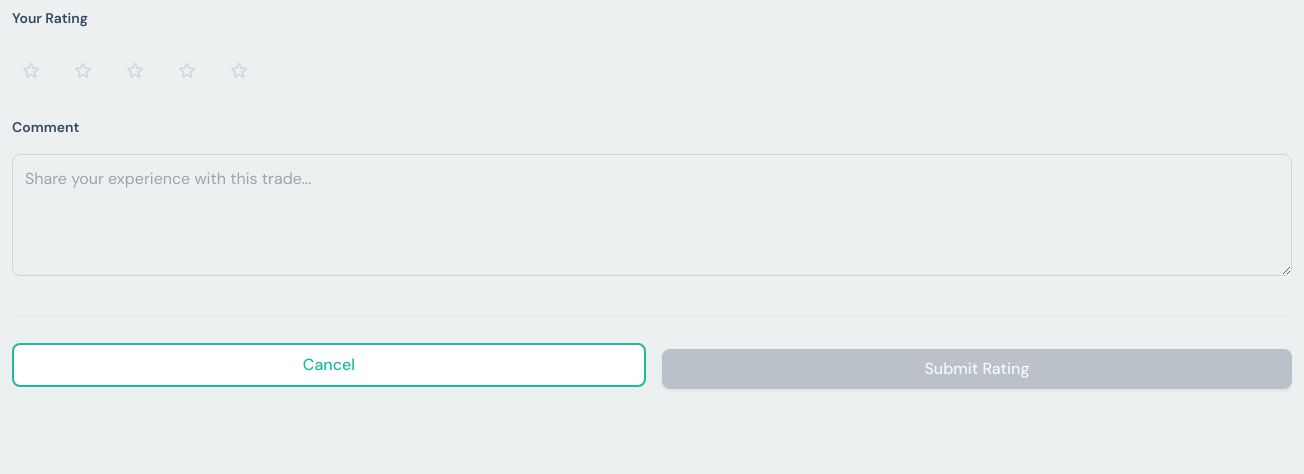
Test: RatingForm › Star Selection › displays correct rating text for each star level
Click the button named "rate 1 star" at (34, 71), box [12,49,56,93]
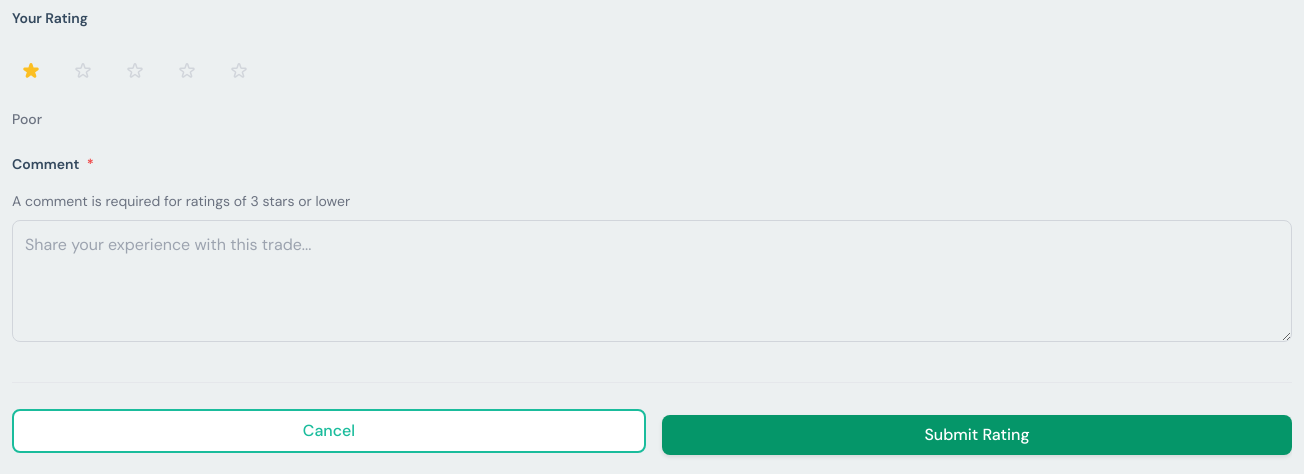
Expected: the text "Poor" is shown, [12,110,42,128]
Click the button named "rate 2 star" at (86, 71), box [64,49,108,93]
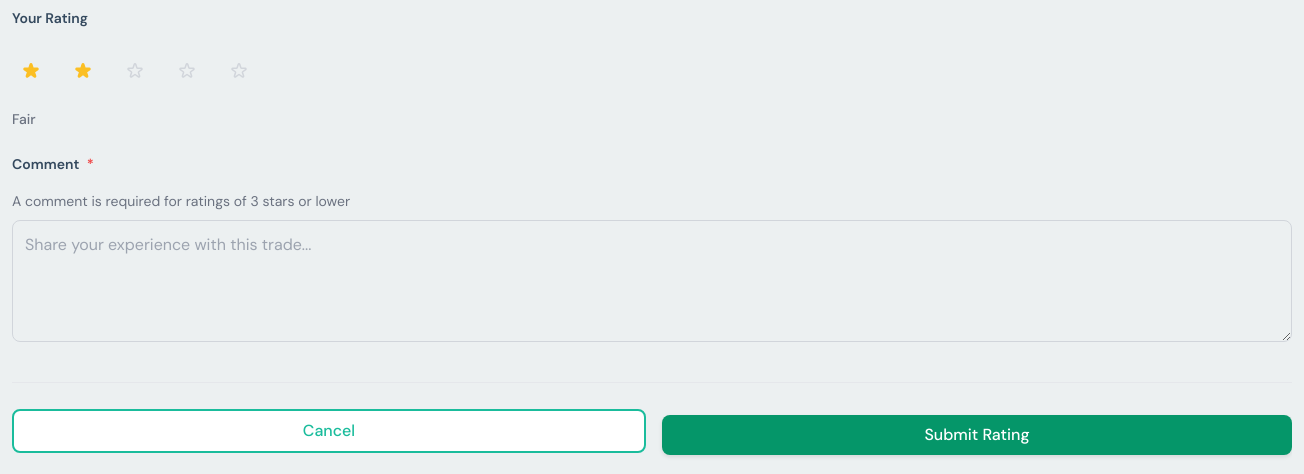
Expected: the text "Fair" is shown, [12,110,36,128]
Click the button named "rate 3 star" at (138, 71), box [116,49,160,93]
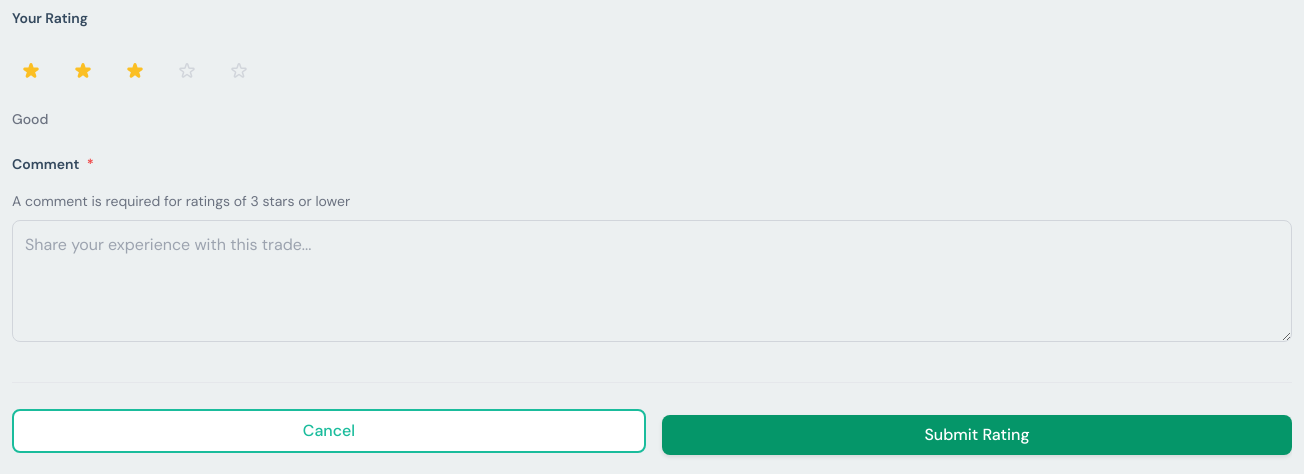
Expected: the text "Good" is shown, [12,110,48,128]
Click the button named "rate 4 star" at (190, 71), box [168,49,212,93]
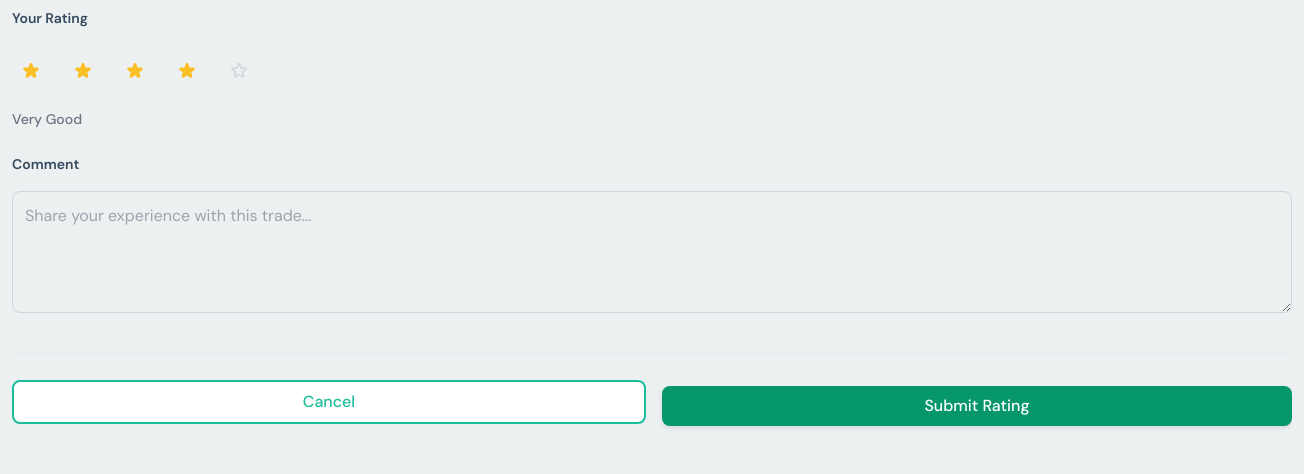
Expected: the text "Very Good" is shown, [12,110,82,128]
Click the button named "rate 5 star" at (242, 71), box [220,49,264,93]
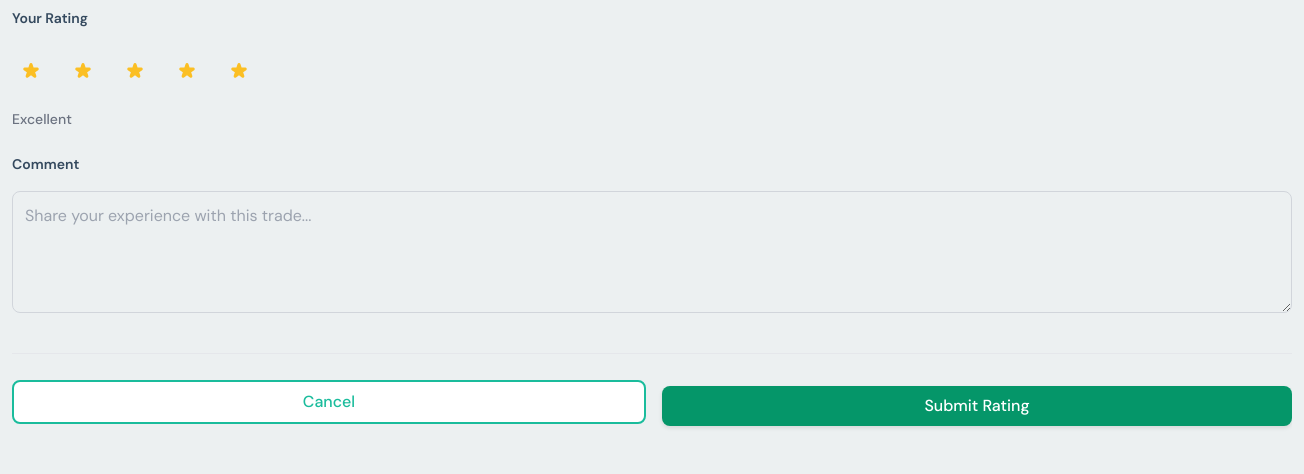
Expected: the text "Excellent" is shown, [12,110,72,128]
